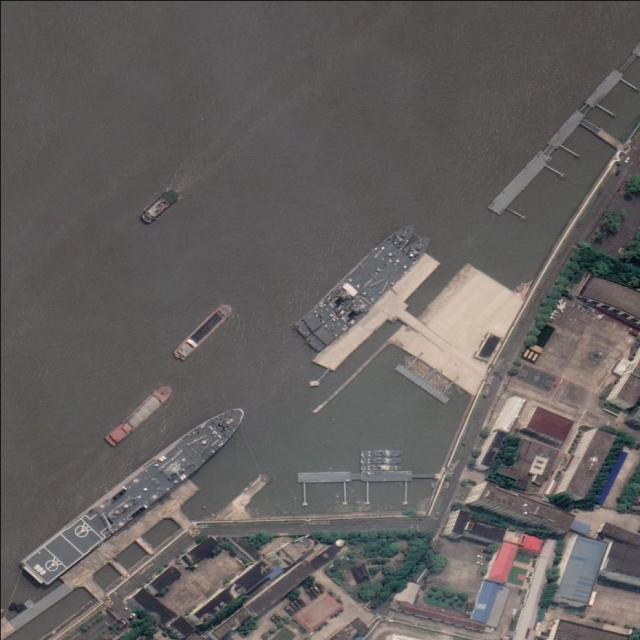Cargo: (102, 381, 176, 449), (170, 300, 235, 363)
Landing: (23, 397, 253, 590)
Other Ship: (139, 186, 182, 228)
Other Warship: (306, 231, 436, 354), (294, 218, 420, 339)
